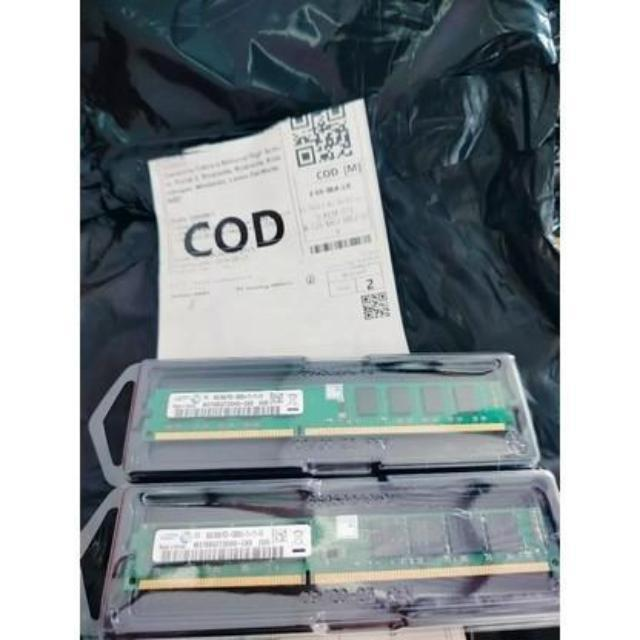RAM: (130, 514, 552, 588), (144, 379, 516, 441)
